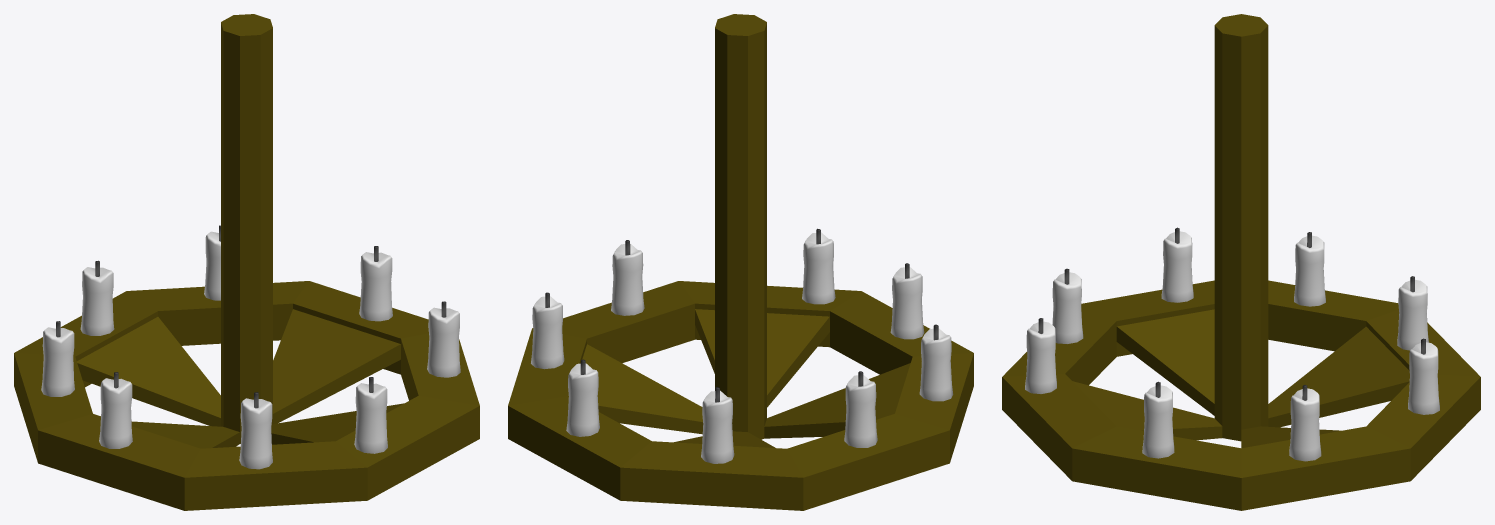
Rendered from chandelier.fbx.
3 views of the same model, side by side, from view 1: azimuth 30°, elevation 25°; view 2: azimuth 150°, elevation 25°; view 3: azimuth 270°, elevation 25° (orthographic).
Visible parts, largest first — view 1: pCylinder9; view 2: pCylinder9; view 3: pCylinder9.
Part boxes in pixels (x1=…): pCylinder9: x1=14, y1=14, x2=479, y2=510; pCylinder9: x1=508, y1=14, x2=973, y2=510; pCylinder9: x1=1002, y1=14, x2=1480, y2=510.
Size of the model in its own units: 36.24 by 33.81 by 36.24.
